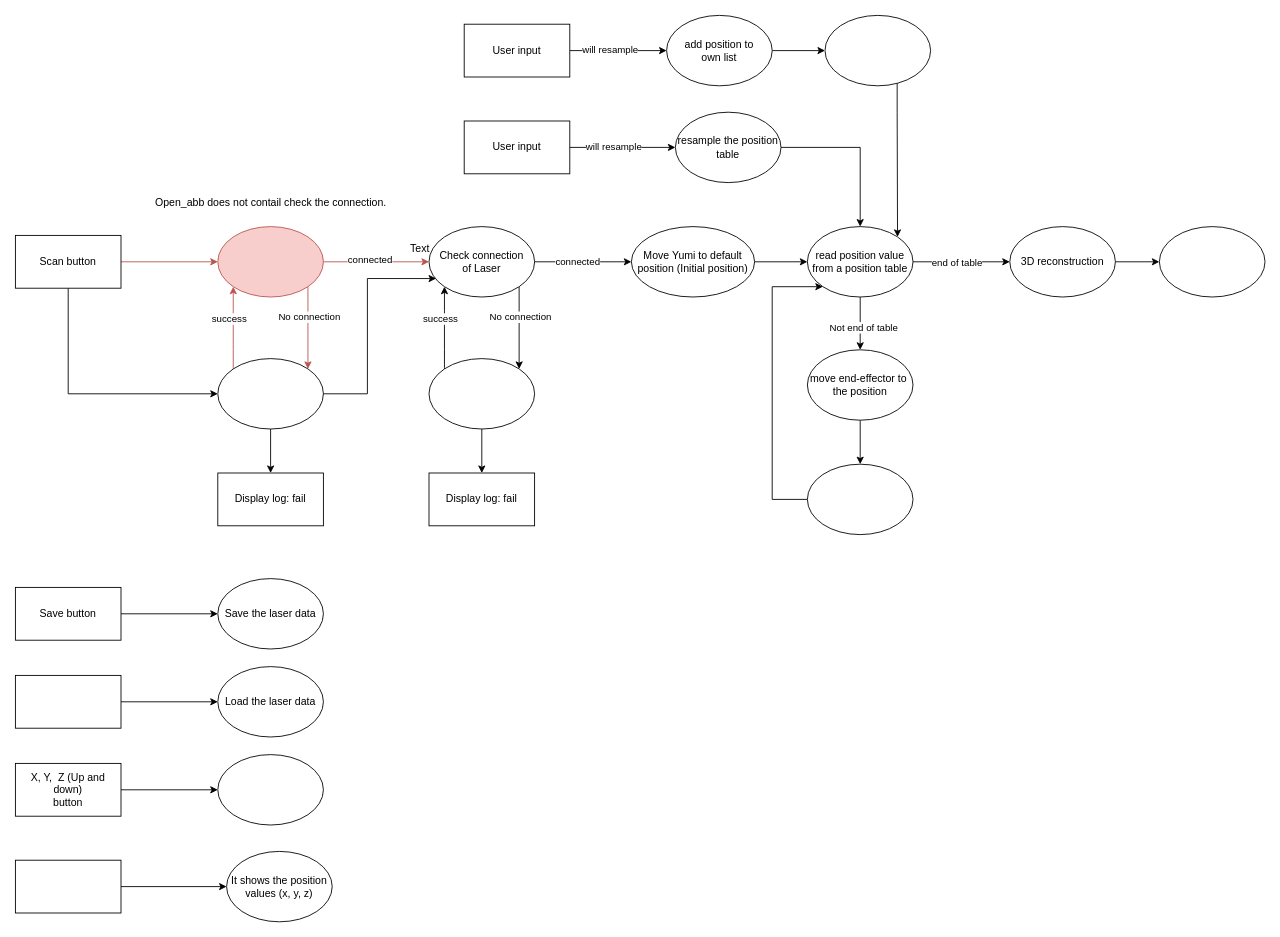
This 1280x937 diagram has some shape labels left out. Each missing label, with the centre of its shape:
3D plot: (x=68, y=886)
change position table (from default to own): (x=877, y=50)
Check connection of Yumi: (x=270, y=261)
Connect Laser: (x=481, y=393)
Connect Yumi: (x=270, y=393)
Load button: (x=68, y=701)
plot the graph: (x=1212, y=261)
read laser data and store it: (x=860, y=499)
small movement of Yumi: (x=270, y=789)
